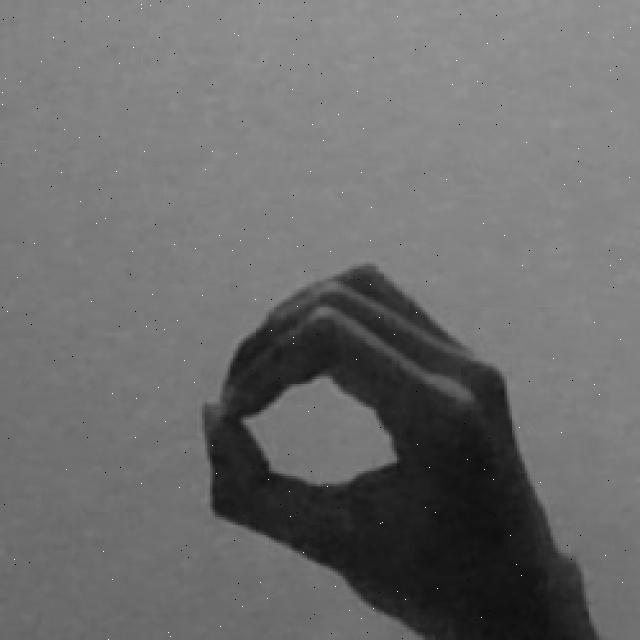O: (199, 255, 600, 640)
